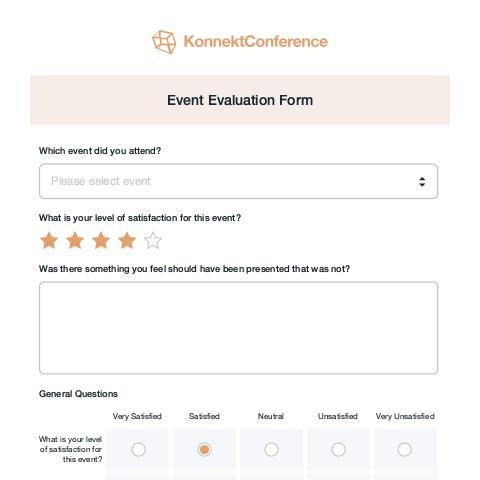dropdown: (41, 164, 438, 200)
icon: (92, 231, 113, 252), (144, 232, 164, 252), (40, 232, 60, 251), (66, 232, 86, 251), (118, 233, 138, 251)
label: (38, 264, 354, 274), (37, 435, 105, 466), (38, 214, 246, 224), (38, 144, 165, 159), (40, 391, 121, 400), (111, 411, 170, 422), (375, 413, 439, 422), (318, 413, 360, 421), (189, 412, 222, 420), (257, 413, 284, 421)
radio: (131, 441, 148, 457), (398, 442, 413, 459), (332, 442, 347, 459), (264, 443, 280, 458), (197, 443, 214, 457)
